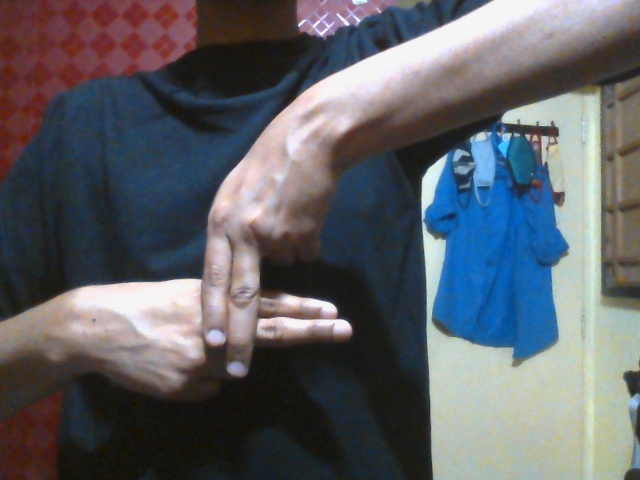F: (99, 156, 353, 404)
